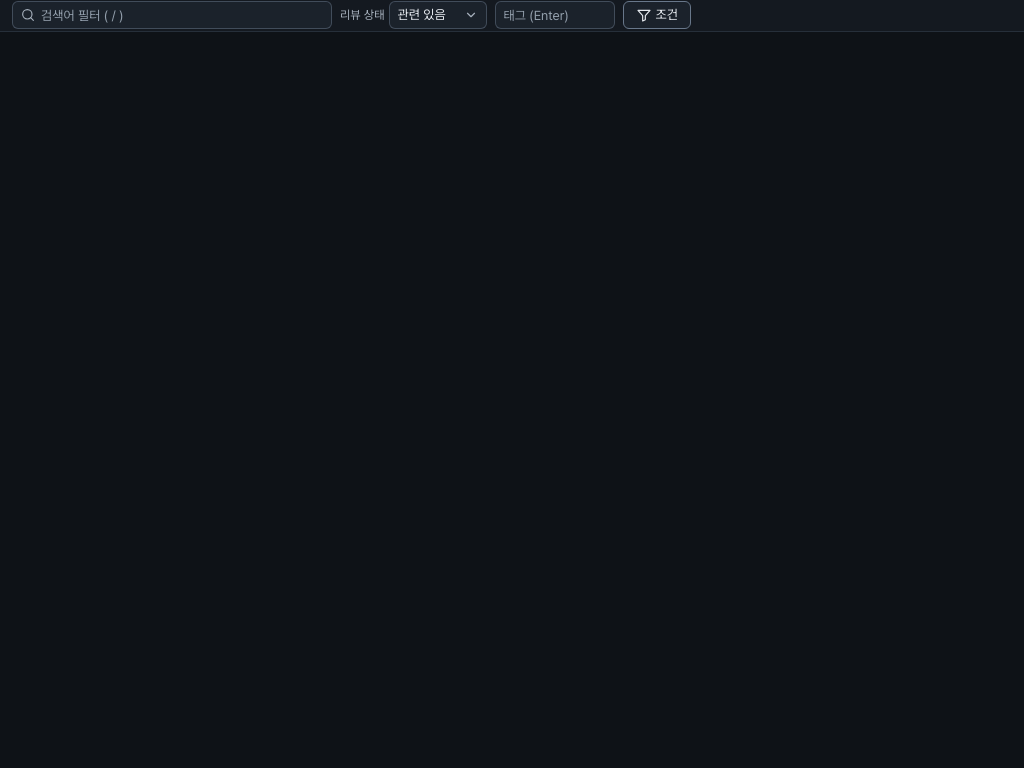
Scenario: 조건 줄 (visual-polish S1/S2, viewer-families U-F1) › 검토 toolbar: review status + tag + search, no time range or 필터 popover
The 조건 panel of 검토 holds only 표시 settings: no time range (S2).
Click the button "조건": (657, 15) [622, 1, 691, 29]
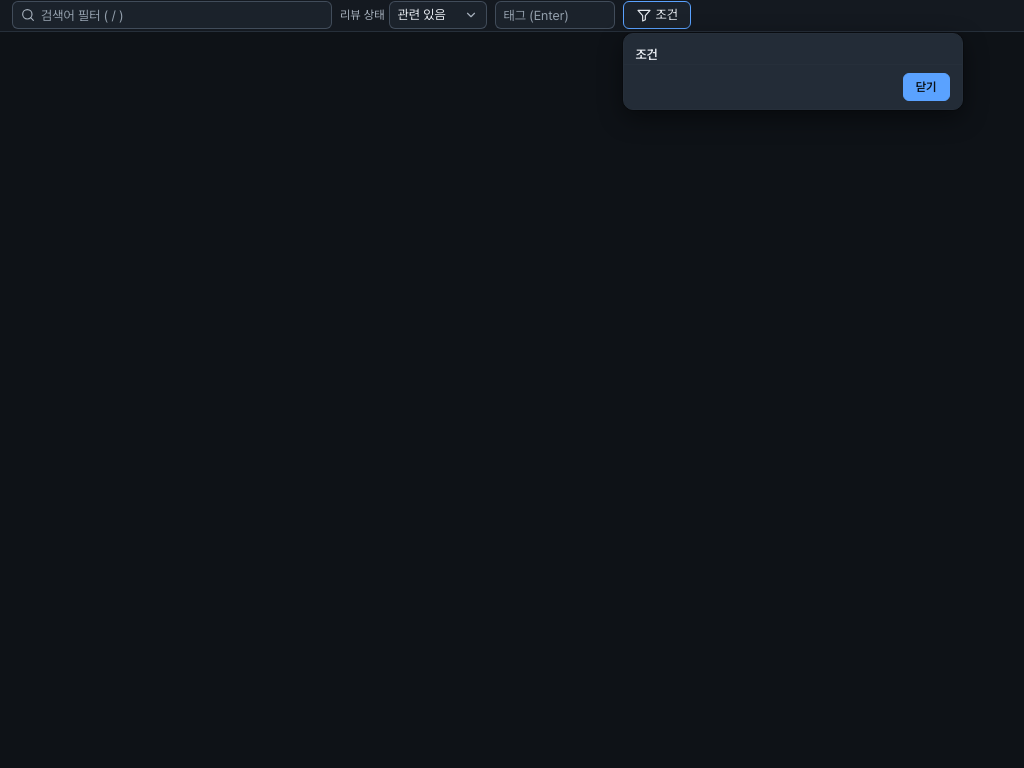
Press Escape in the dialog "조건", box [622, 33, 962, 110]
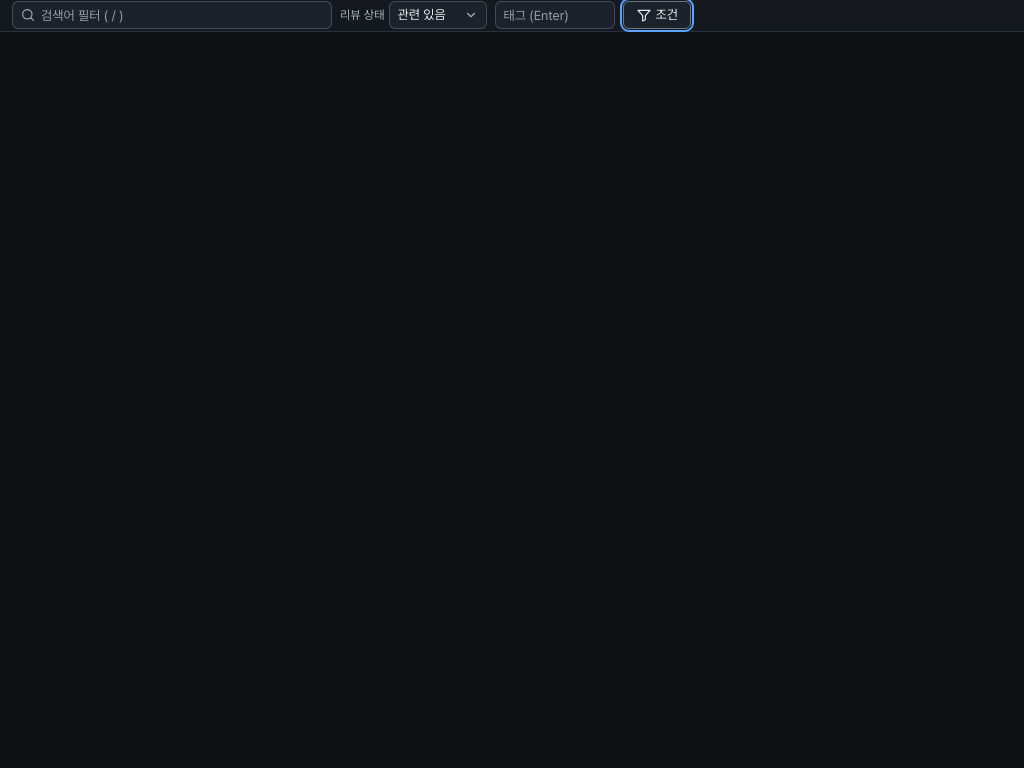
Select "제외" in the dropdown labelled "리뷰 상태": (438, 15) [388, 1, 486, 29]
Select "전체" in the dropdown labelled "리뷰 상태": (438, 15) [388, 1, 486, 29]
In the field labelled "태그": (554, 15) [494, 1, 614, 29], type "악성"
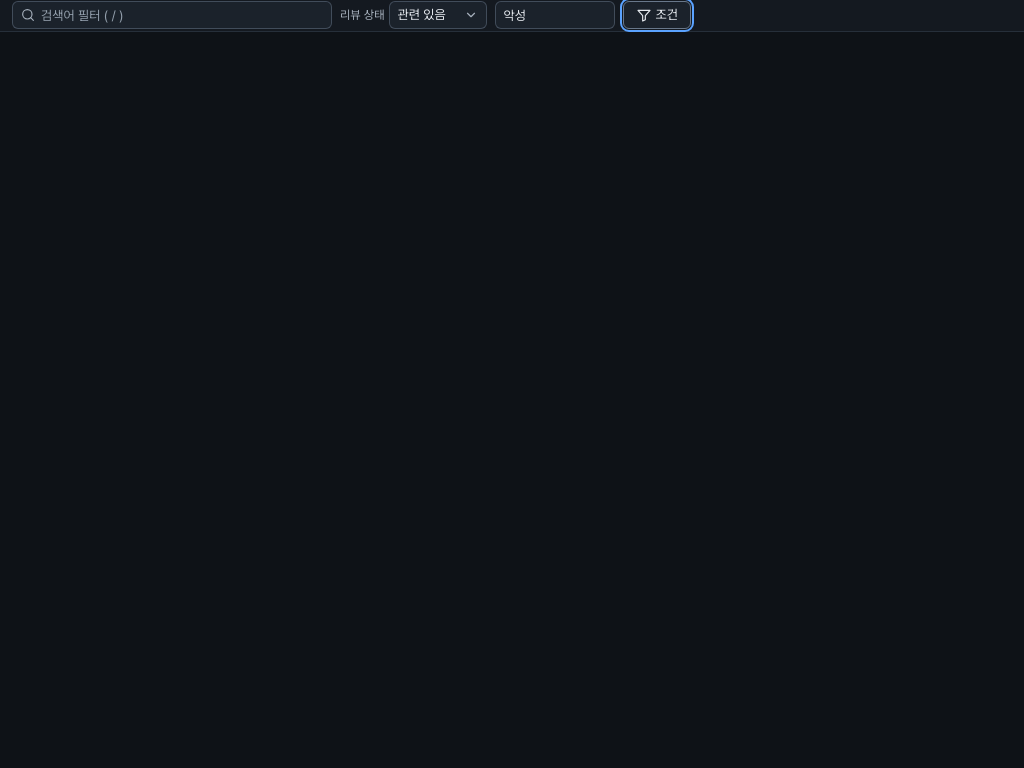
Press Enter in the field named "태그", box [494, 1, 614, 29]
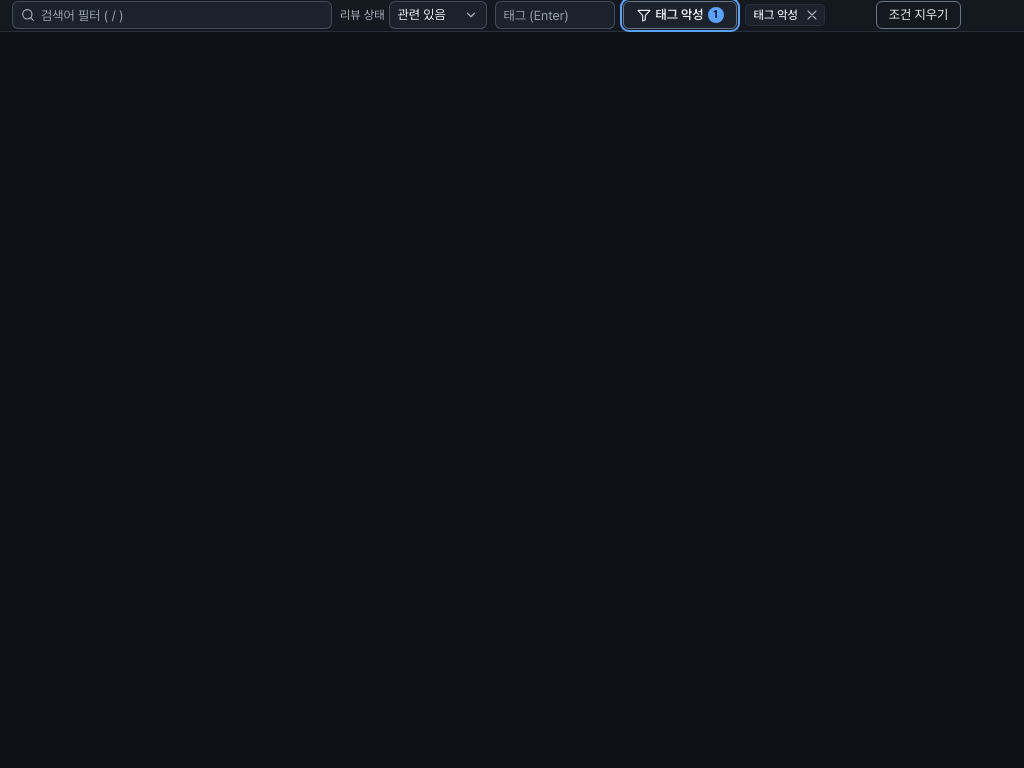
Check: the button named "태그 악성 조건 제거" is shown, box [804, 7, 820, 23]
